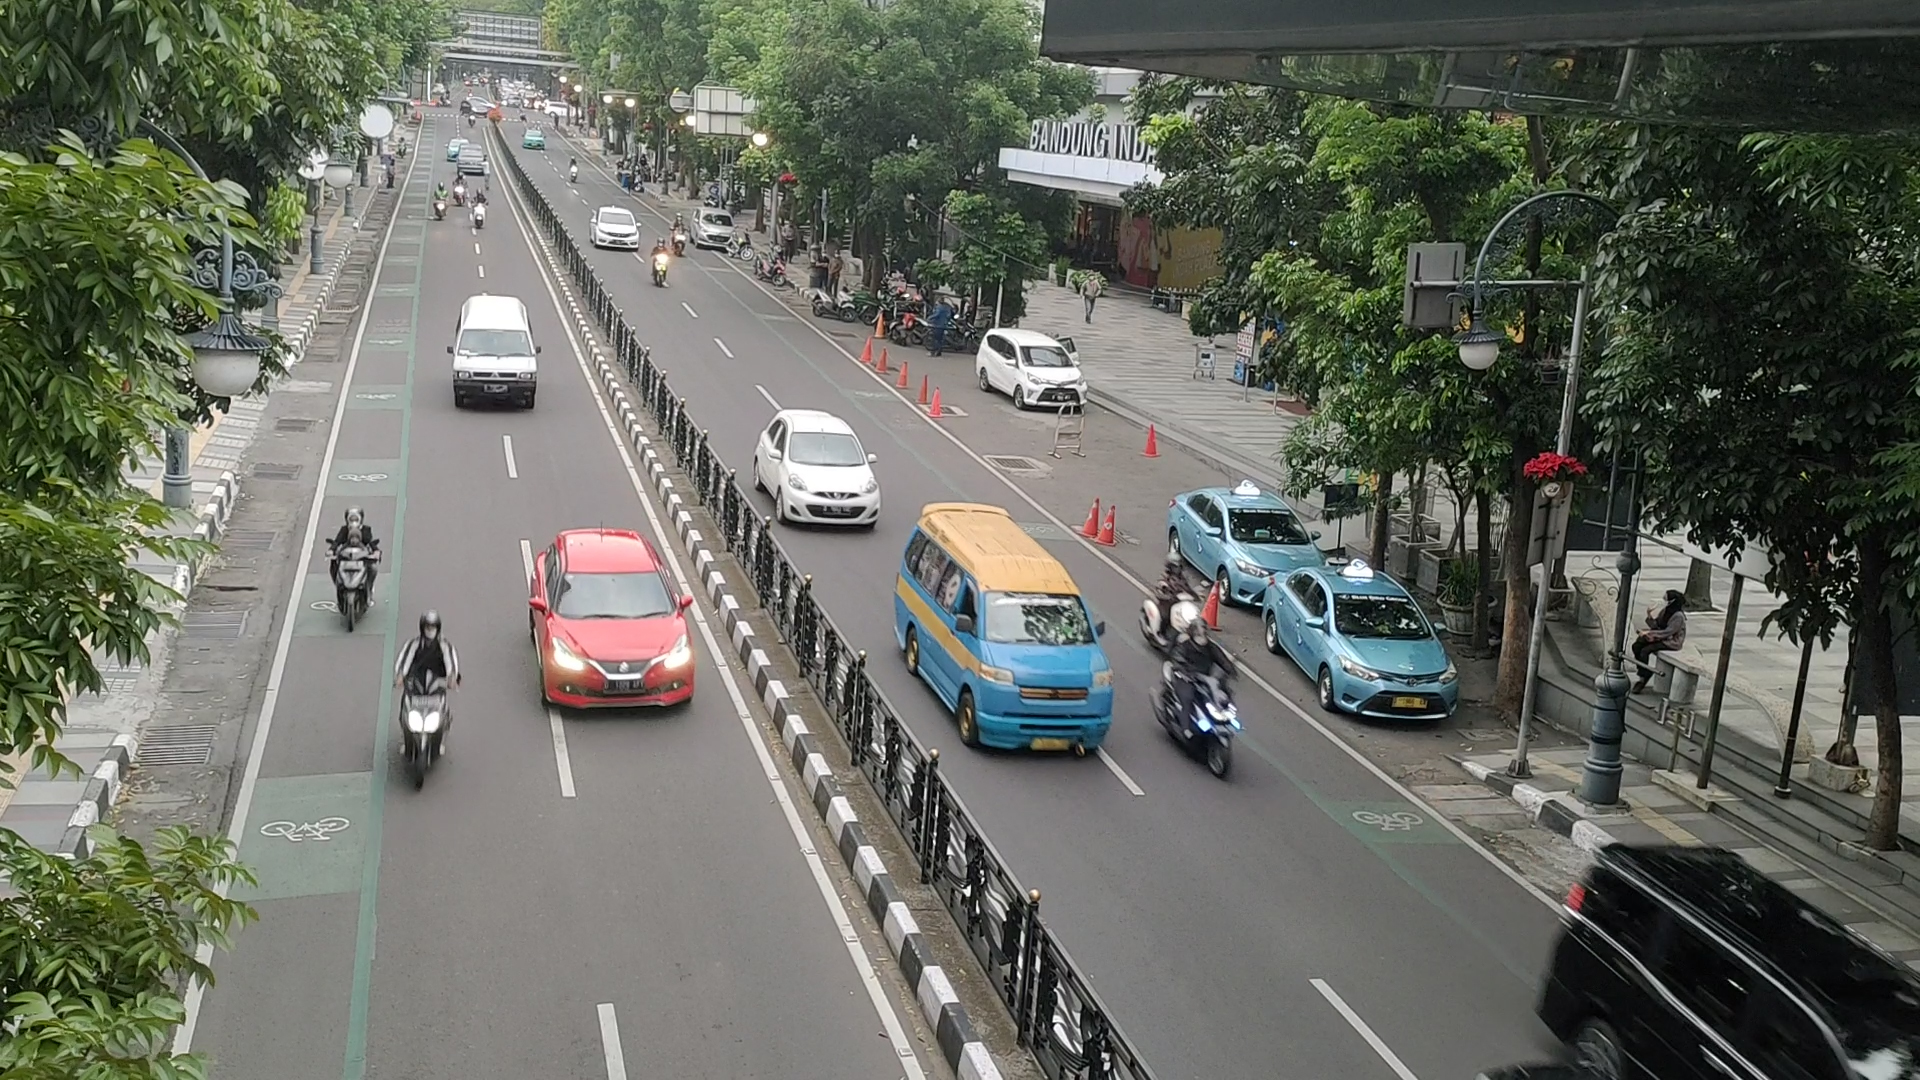mobil: (969, 583, 1116, 761), (533, 560, 696, 719), (1317, 588, 1461, 724), (778, 418, 880, 535), (444, 328, 541, 415), (1015, 340, 1087, 411)
motor: (377, 596, 477, 804), (1153, 603, 1261, 794), (307, 497, 397, 642), (1127, 535, 1224, 669)
